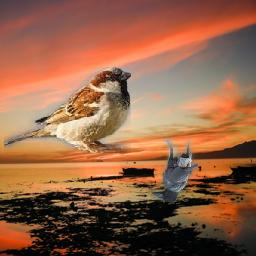Crow: (152, 138, 199, 202)
Sparrow: (5, 67, 132, 153)
